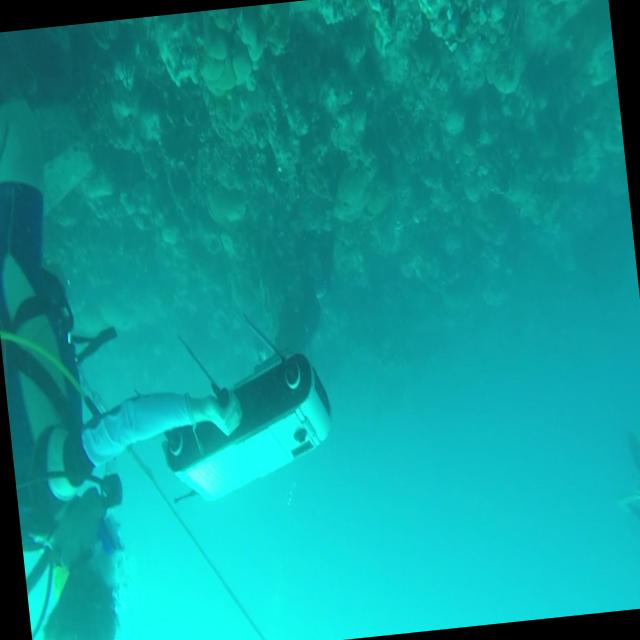human: (0, 77, 267, 640)
